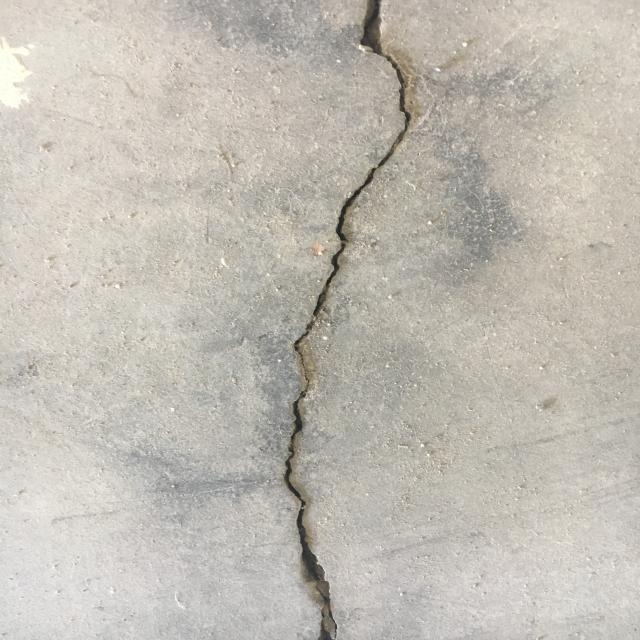Rachadura: (276, 0, 416, 640)
